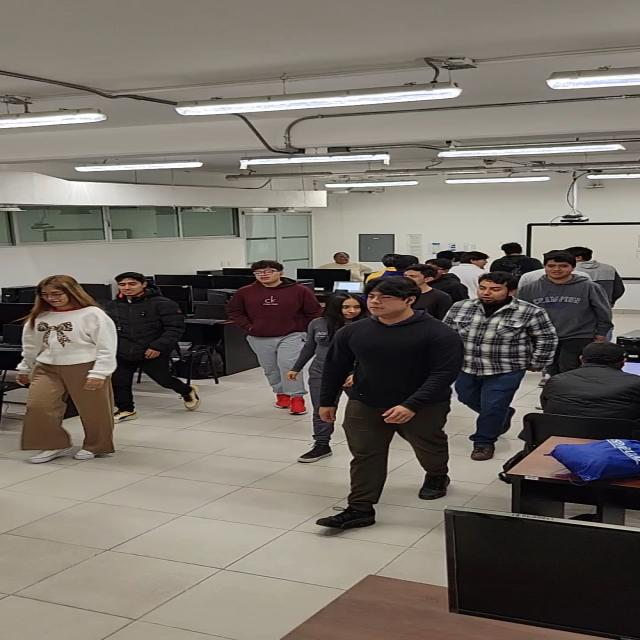Persona: (356, 275, 455, 497), (29, 280, 119, 454), (454, 273, 525, 436), (112, 275, 199, 404), (245, 260, 304, 402), (540, 257, 610, 344), (309, 285, 359, 389), (314, 245, 364, 267)
